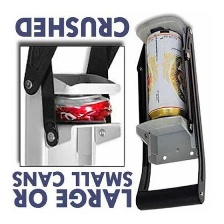can: (140, 28, 189, 120), (51, 92, 114, 127)
